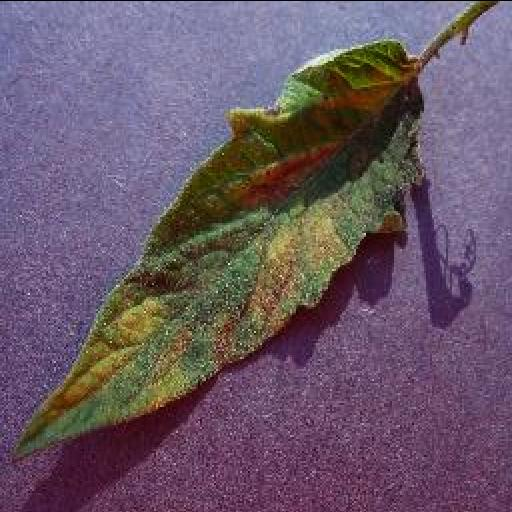disease_tomato: (8, 37, 426, 450)
